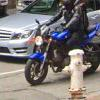Motorcycle: (20, 17, 100, 85)
